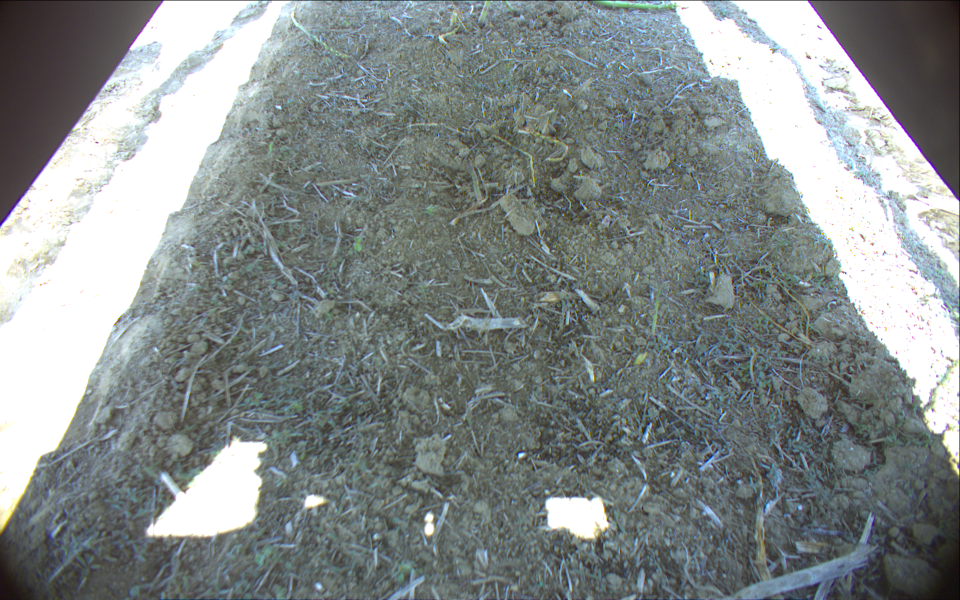aspa: (291, 2, 350, 59), (437, 13, 468, 45), (588, 1, 683, 11), (649, 283, 661, 339), (478, 1, 494, 24), (447, 11, 458, 29), (498, 1, 513, 9)
